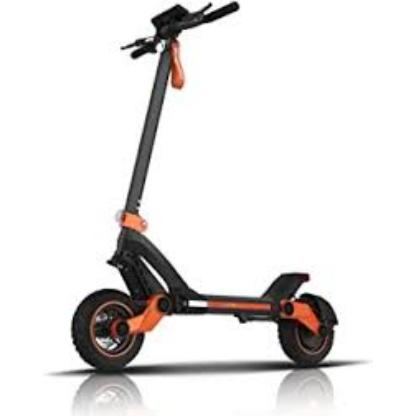bike: (69, 2, 341, 373)
